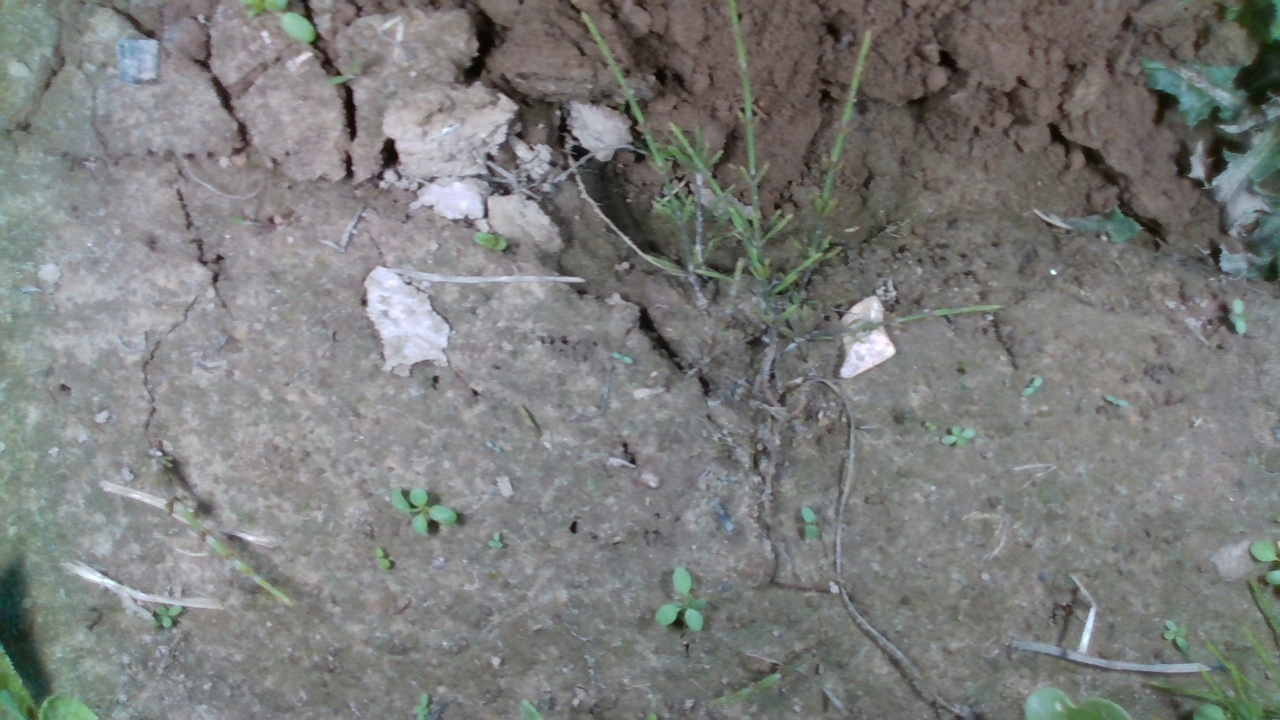weed: (651, 566, 709, 632), (388, 484, 458, 537), (1161, 617, 1190, 654), (939, 425, 977, 450), (152, 603, 182, 629), (799, 503, 818, 542), (1231, 296, 1249, 337), (371, 544, 393, 571), (1021, 374, 1043, 396), (923, 418, 937, 432)
